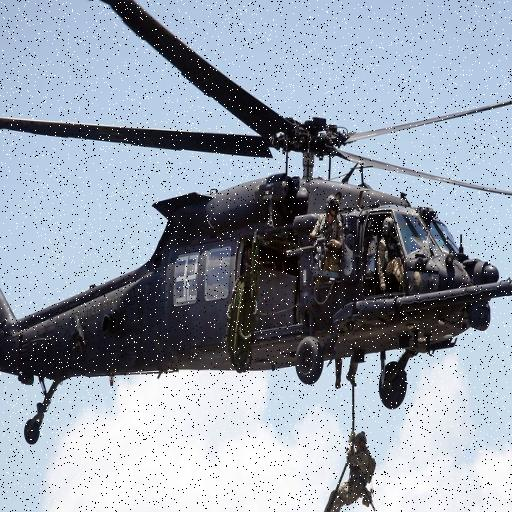helicopter: (1, 13, 512, 447)
